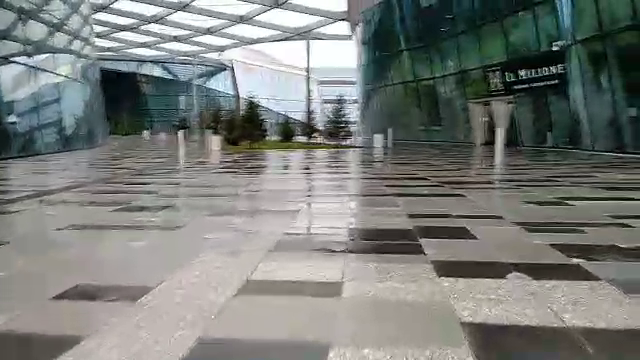ilmalione: (478, 57, 577, 99)
